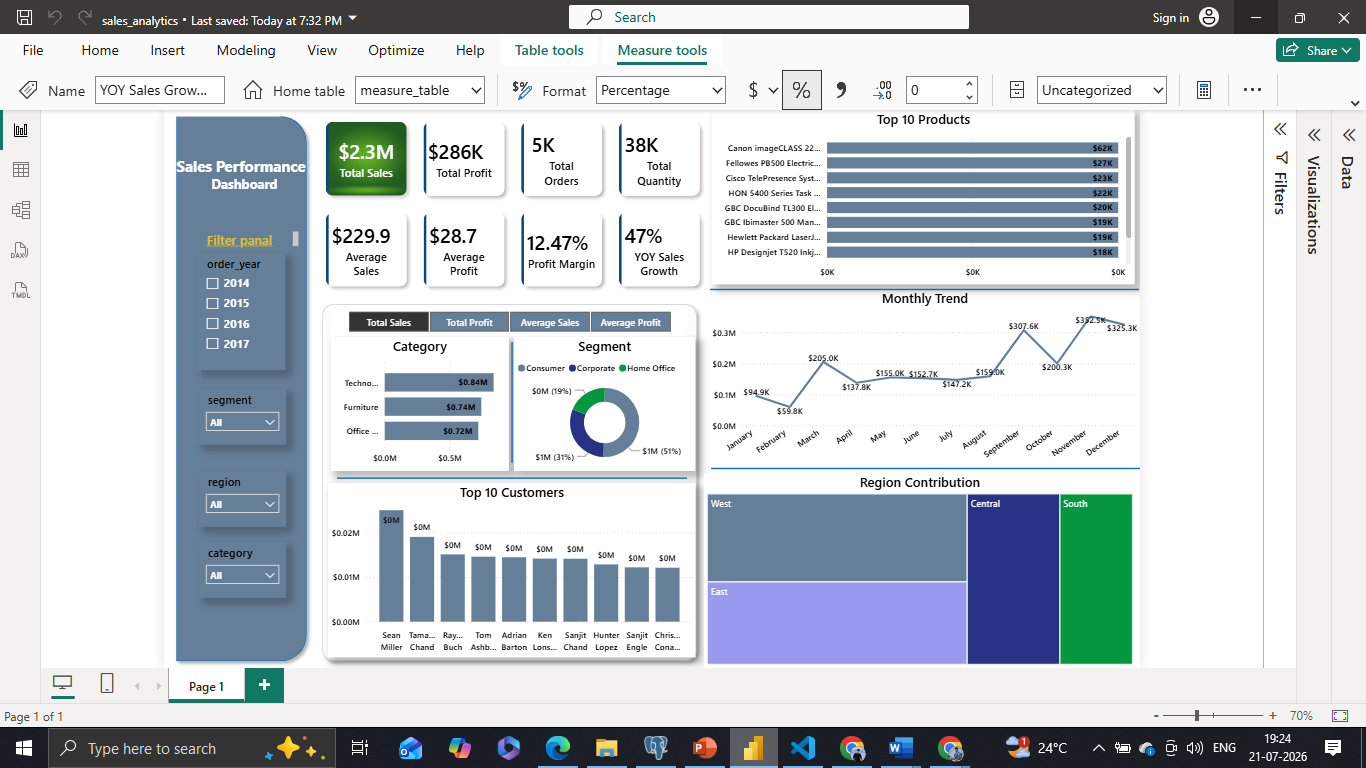

The dashboard page shown, as its layout file describes it:
{"tool":"powerbi","page":{"name":"Page 1","canvas":[1400,800],"ordinal":0},"visuals":[{"type":"shape","box":[9.2,0,205,799.2],"z":0},{"type":"cardVisual","fields":{"Data":["measure_table.Total Sales","measure_table.Total Profit","measure_table.Total Orders","measure_table.Total Quantity","measure_table.Average Sales","measure_table.Average Profit","measure_table.Profit Margin %","measure_table.YOY Sales Growth %"]},"box":[215,0,570,270],"z":1000},{"type":"textbox","box":[11,60.6,203.9,80.8],"z":2000},{"type":"shape","box":[218.6,270.1,554.9,529.1],"z":3000},{"type":"lineChart","title":"Monthly Trend","fields":{"Y":["measure_table.Total Sales"],"Category":["public dim_date.order_date.Variation.Date Hierarchy.Month"]},"box":[780.8,257.2,619.2,262.7],"z":4000},{"type":"clusteredBarChart","title":" Category","fields":{"Y":["measure_table.Total Sales"],"Category":["public dim_product.category"]},"box":[239.4,326,255.1,192.1],"z":5000},{"type":"donutChart","title":"Segment","fields":{"Y":["measure_table.Total Sales"],"Category":["public dim_customer.segment"]},"box":[502.4,326,259.8,192.1],"z":6000},{"type":"shape","box":[784.5,507.1,615.5,12.9],"z":7000},{"type":"shape","box":[488.7,332.5,20.2,172.7],"z":8000},{"type":"shape","box":[248,519.9,501.6,14.7],"z":9000},{"type":"clusteredBarChart","title":"Top 10 Products","fields":{"Category":["public dim_product.product_name"],"Y":["measure_table.Total Sales"]},"box":[785.8,0,606.3,250.4],"z":10000},{"type":"columnChart","title":"Top 10 Customers","fields":{"Y":["measure_table.Total Sales"],"Category":["public dim_customer.customer_name"]},"box":[235.2,534.6,527.3,249.9],"z":11000},{"type":"shape","box":[783.5,250.7,615.5,12.9],"z":12000},{"type":"slicer","fields":{"Values":["Metrics.Metrics"]},"box":[238.8,282.9,510.8,42.3],"z":13000},{"type":"treemap","title":"Region Contribution","fields":{"Values":["measure_table.Total Sales"],"Details":["public dim_location.region"]},"box":[773.5,519.9,619.2,279.3],"z":14000},{"type":"slicer","fields":{"Values":["public dim_date.order_year"]},"box":[48.7,205,124.7,167.7],"z":15000},{"type":"textbox","box":[28.3,168.5,168.5,33.1],"z":16000},{"type":"slicer","fields":{"Values":["public dim_customer.segment"]},"box":[50.2,400,124.7,80.3],"z":17000},{"type":"slicer","fields":{"Values":["public dim_location.region"]},"box":[50.2,517.6,124.7,80.3],"z":18000},{"type":"slicer","fields":{"Values":["public dim_product.category"]},"box":[50.2,619.4,124.7,80.3],"z":19000}]}

Visuals, with their boxes on the page's 1400x800 design canvas (x1, y1, x2, y2). These are canvas units, not pixel positions in the 1366x768 screenshot, which may show the page scaled, cropped or inside an application window:
shape: x1=9, y1=0, x2=214, y2=799
cardVisual - measure_table.Total Sales x measure_table.Total Profit: x1=215, y1=0, x2=785, y2=270
textbox: x1=11, y1=61, x2=215, y2=141
shape: x1=219, y1=270, x2=774, y2=799
"Monthly Trend" lineChart: x1=781, y1=257, x2=1400, y2=520
" Category" clusteredBarChart: x1=239, y1=326, x2=494, y2=518
"Segment" donutChart: x1=502, y1=326, x2=762, y2=518
shape: x1=784, y1=507, x2=1400, y2=520
shape: x1=489, y1=332, x2=509, y2=505
shape: x1=248, y1=520, x2=750, y2=535
"Top 10 Products" clusteredBarChart: x1=786, y1=0, x2=1392, y2=250
"Top 10 Customers" columnChart: x1=235, y1=535, x2=762, y2=784
shape: x1=784, y1=251, x2=1399, y2=264
slicer - Metrics.Metrics: x1=239, y1=283, x2=750, y2=325
"Region Contribution" treemap: x1=774, y1=520, x2=1393, y2=799
slicer - public dim_date.order_year: x1=49, y1=205, x2=173, y2=373
textbox: x1=28, y1=168, x2=197, y2=202
slicer - public dim_customer.segment: x1=50, y1=400, x2=175, y2=480
slicer - public dim_location.region: x1=50, y1=518, x2=175, y2=598
slicer - public dim_product.category: x1=50, y1=619, x2=175, y2=700
